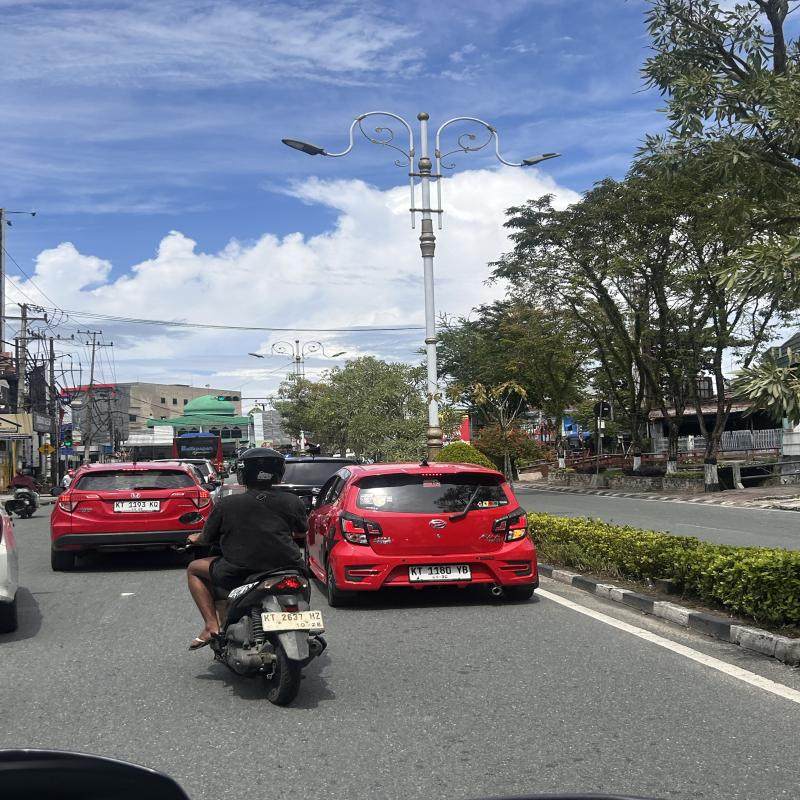license plate on a car: (409, 565, 471, 580), (114, 500, 163, 513)
